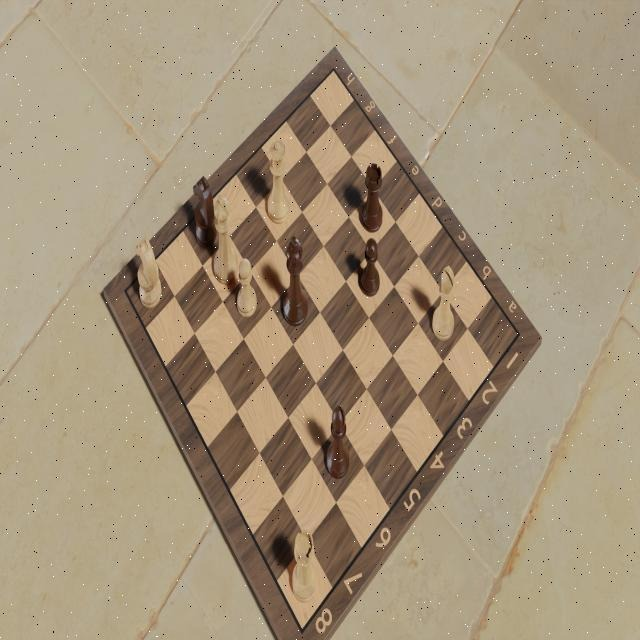black-bishop: (324, 401, 351, 483)
black-king: (279, 232, 310, 331)
black-knight: (192, 173, 218, 249)
black-pawn: (358, 236, 381, 300)
black-rook: (360, 160, 385, 235)
white-bishop: (431, 263, 457, 343)
white-king: (213, 194, 239, 288)
white-knight: (137, 236, 163, 308)
white-pawn: (235, 256, 261, 324)
white-queen: (266, 133, 292, 226)
white-rook: (289, 525, 321, 610)
